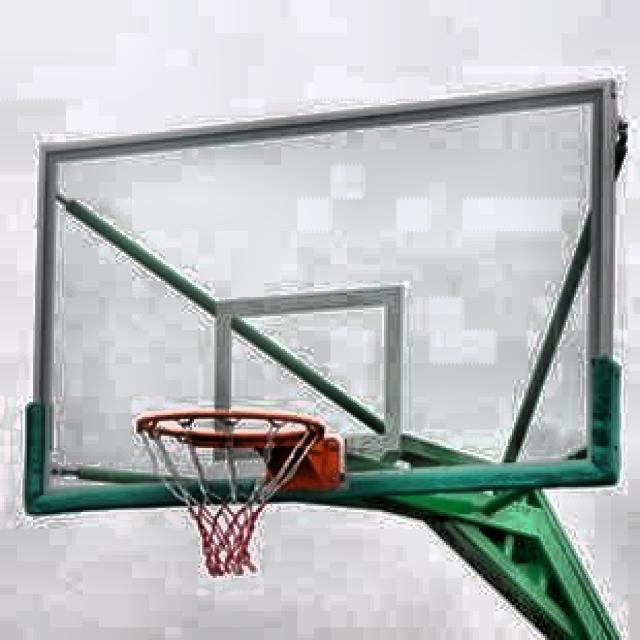rim: (138, 409, 328, 578)
